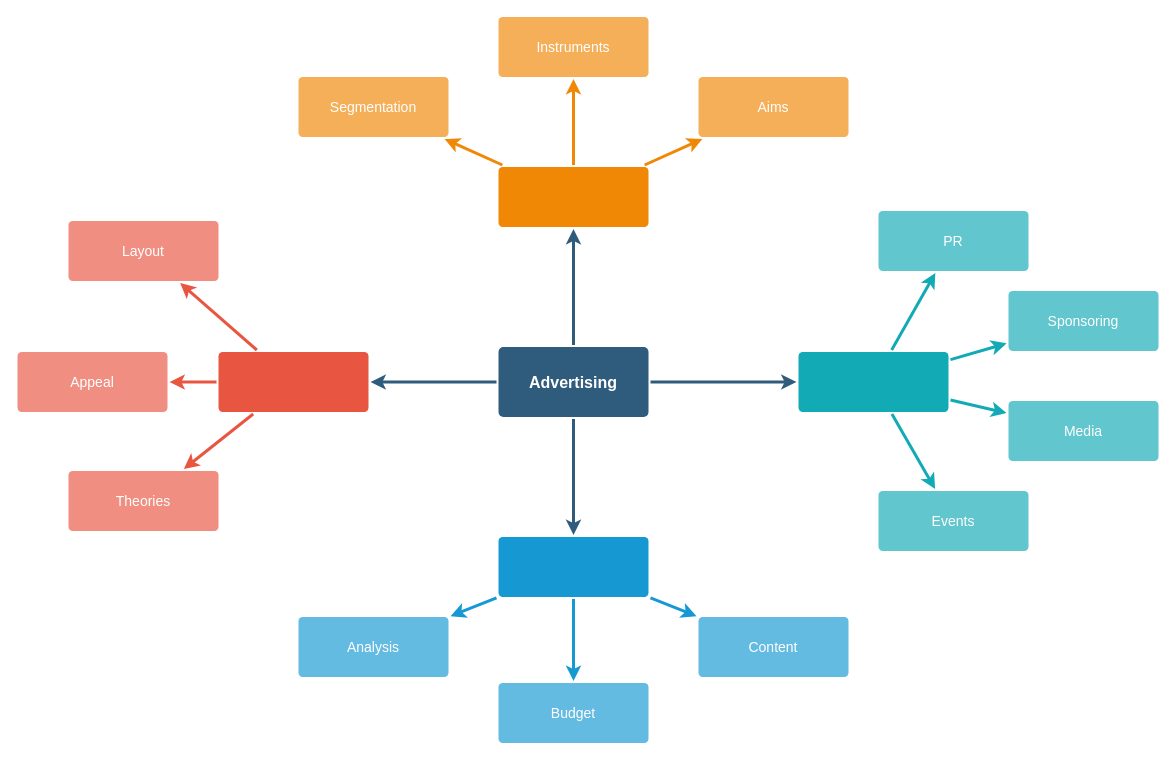
The diagram is 1175 pixels wide and 760 high, and some of its shapes have lost their labels. Each missing label, with the centre of its shape:
"Communication" goes at point (873, 382).
"Embassy" goes at point (293, 382).
"Kaam Yoga" goes at point (573, 566).
"Nishkaam Karm Yoga" goes at point (573, 196).
